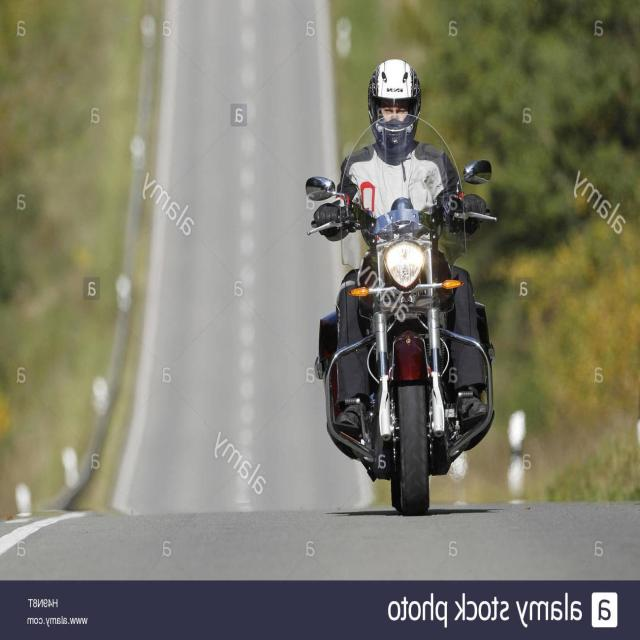helmet: (363, 46, 423, 162)
